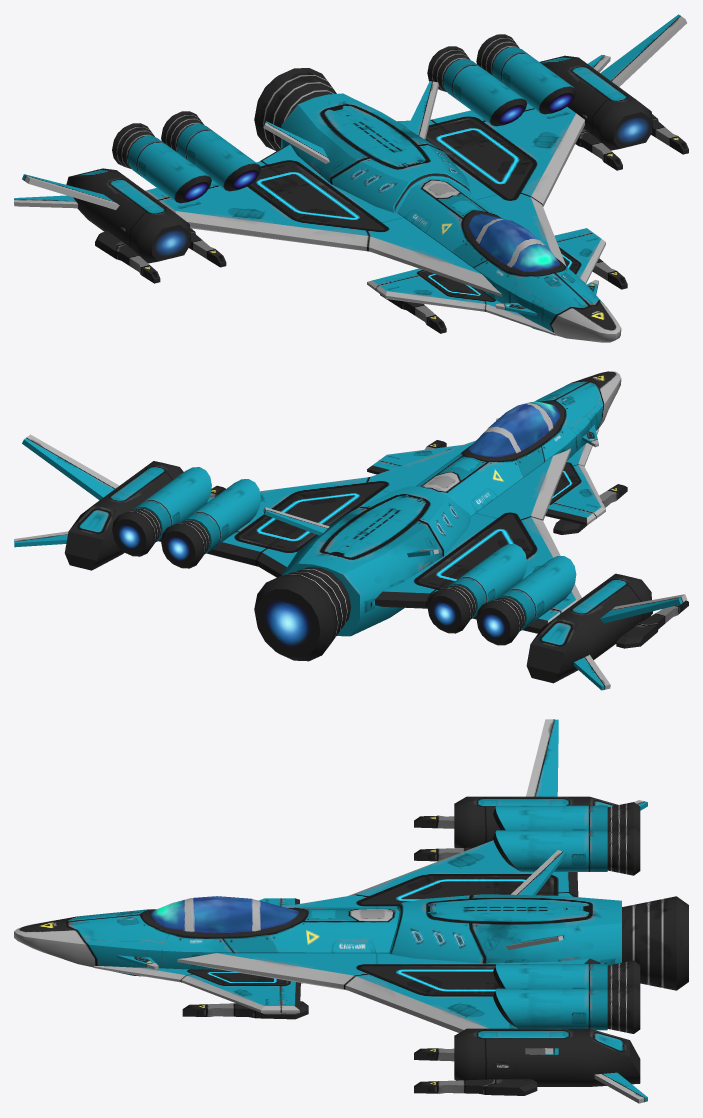
The model's file is LightBlueL1M2R1.fbx.
3 renders of one model, top to bottom at view 1: azimuth 30°, elevation 25°; view 2: azimuth 150°, elevation 25°; view 3: azimuth 270°, elevation 25°, orthographic. The views are drawn at different scales.
Visible parts, largest first — view 1: StarSparrow04; view 2: StarSparrow04; view 3: StarSparrow04.
Part boxes in pixels (bbox=[...]): StarSparrow04: bbox=[14, 14, 688, 342]; StarSparrow04: bbox=[14, 371, 688, 690]; StarSparrow04: bbox=[14, 719, 688, 1103].
Size of the model in its own units: 1259 by 182 by 1085.
1 material, 1 textured.
